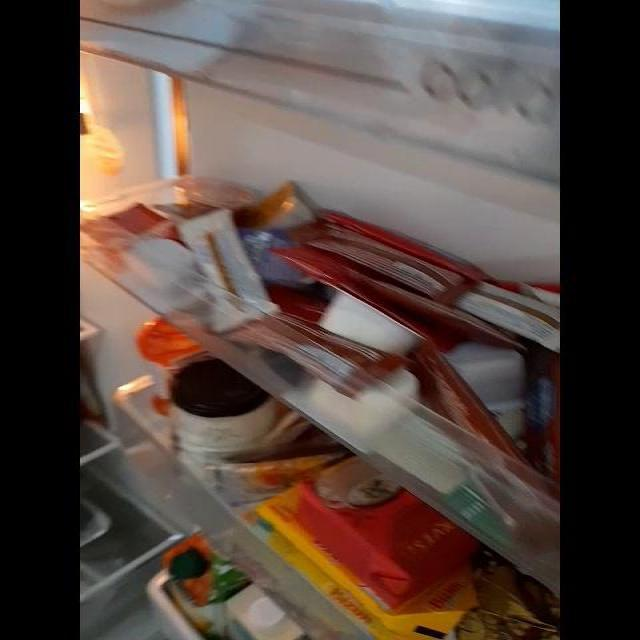juice: (160, 533, 227, 631)
